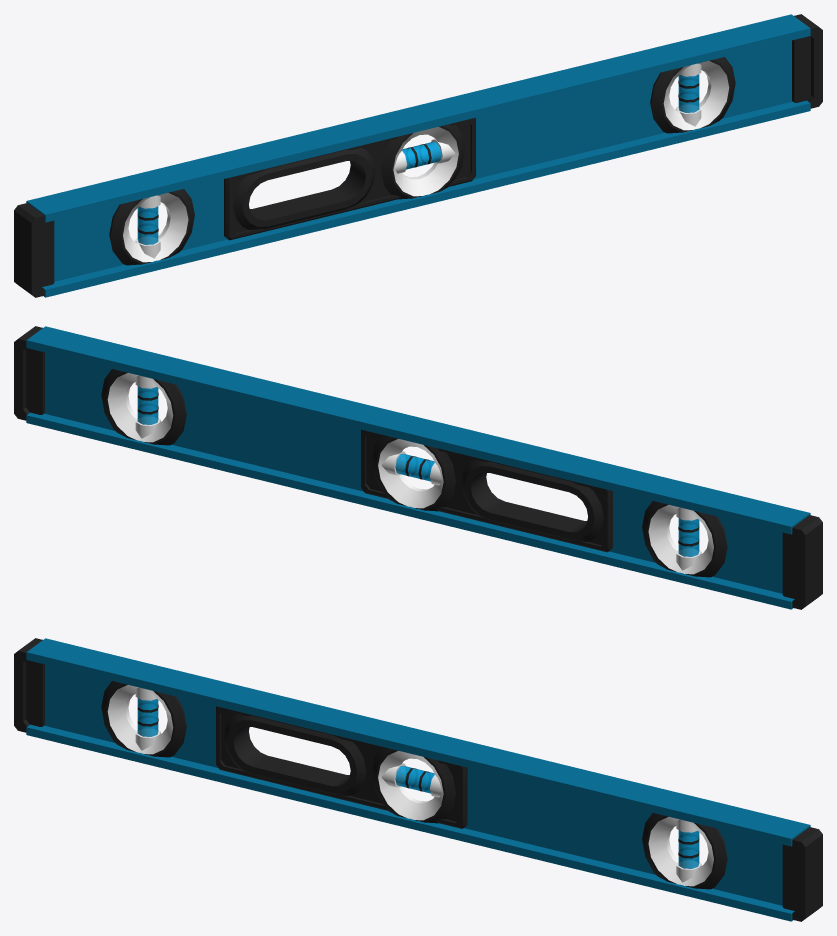
The model's file is magneticlevel_low.fbx.
3 views of the same model, one above another, from view 1: azimuth 30°, elevation 25°; view 2: azimuth 150°, elevation 25°; view 3: azimuth 330°, elevation 25° (orthographic).
Parts seen in each view (by area): view 1: level_low; view 2: level_low; view 3: level_low.
Part boxes in pixels (<box>): level_low: <box>14,14,822,297</box>; level_low: <box>14,326,822,609</box>; level_low: <box>14,638,822,921</box>.
Bounding box in the file's own units: 60 × 6 × 2.5.
